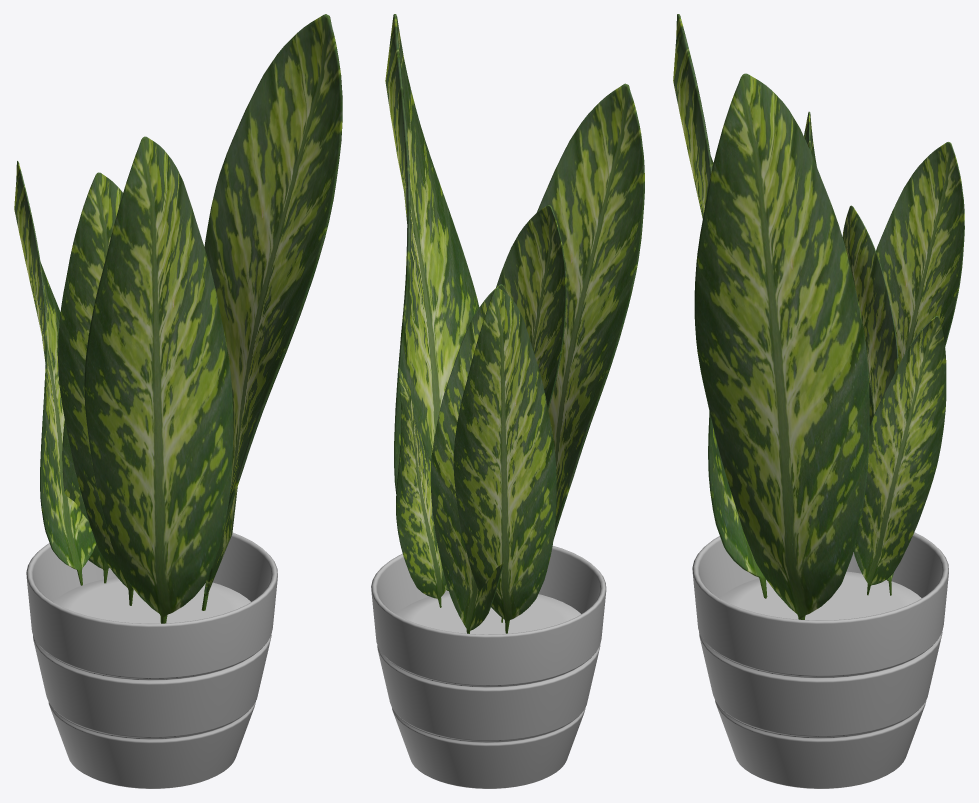
File: plant2.fbx
3 renders of one model, left to right at view 1: azimuth 30°, elevation 25°; view 2: azimuth 150°, elevation 25°; view 3: azimuth 270°, elevation 25°, orthographic. The views are drawn at different scales.
Visible parts, largest first — view 1: Furniture plant B.001, Furniture plant pot.004; view 2: Furniture plant B.001, Furniture plant pot.004; view 3: Furniture plant B.001, Furniture plant pot.004.
Part boxes in pixels (<box>): Furniture plant B.001: <box>14,14,342,623</box>; Furniture plant pot.004: <box>26,532,277,788</box>; Furniture plant B.001: <box>385,14,644,633</box>; Furniture plant pot.004: <box>371,546,606,788</box>; Furniture plant B.001: <box>673,14,964,619</box>; Furniture plant pot.004: <box>692,532,948,788</box>.
Bounding box in the file's own units: 11.42 × 31.92 × 11.28.
